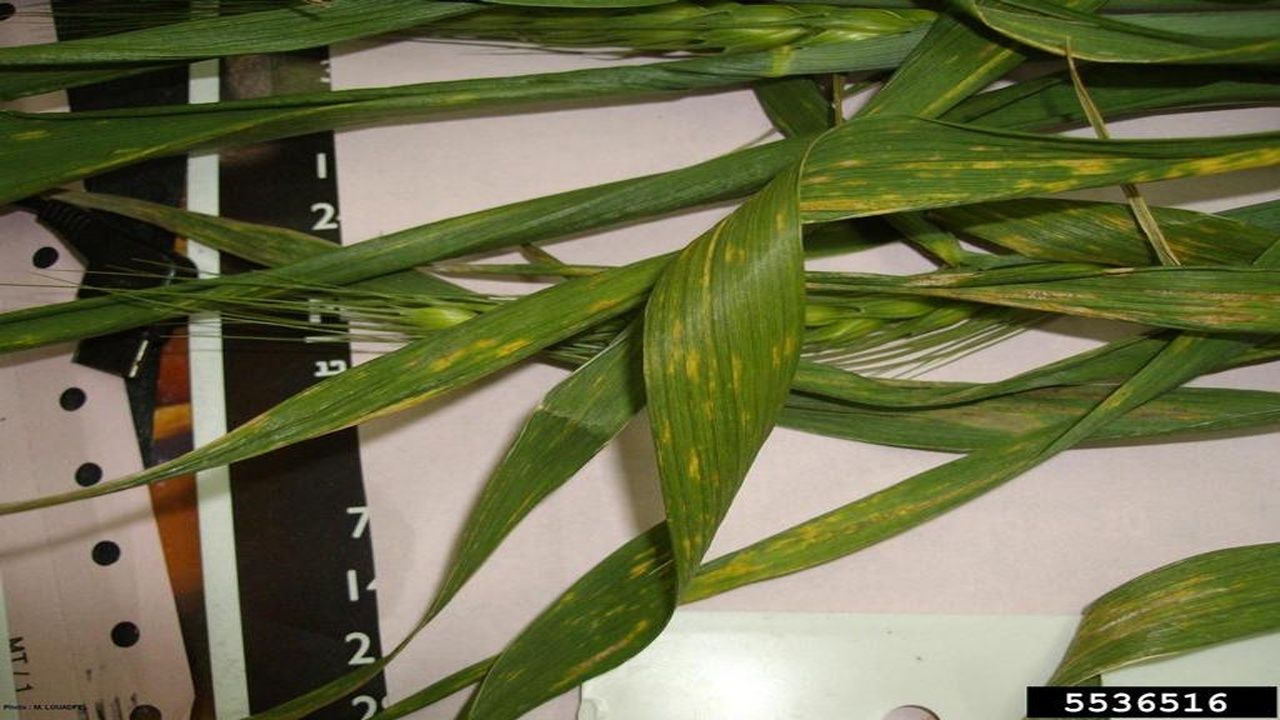stripe_rust: (1, 258, 638, 512), (685, 342, 1209, 601), (645, 254, 819, 570), (802, 122, 1279, 223), (492, 522, 666, 720)
